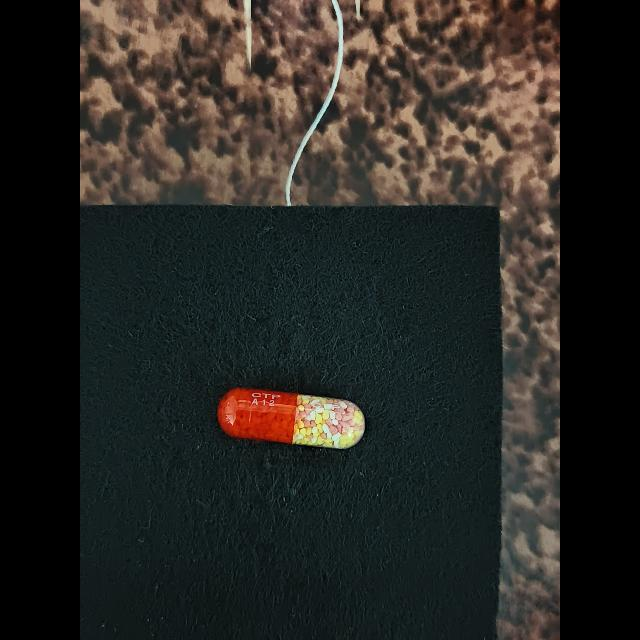Intact Capsule: (217, 387, 365, 449)
